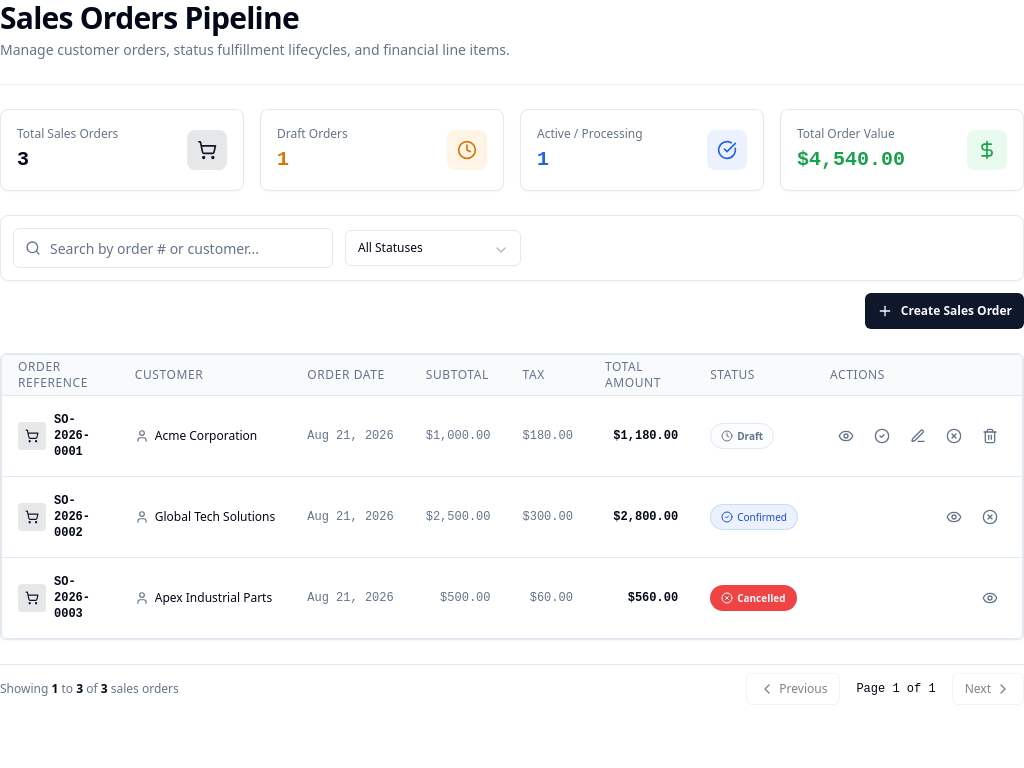
Test: Sales Orders Management Suite › opens Sales Order Detail modal when view details action is clicked
The width and height of the screenshot is (1024, 768).
Click the button titled "View Details" in the row of "SO-2026-0001" at (846,436), box [830,420,862,452]
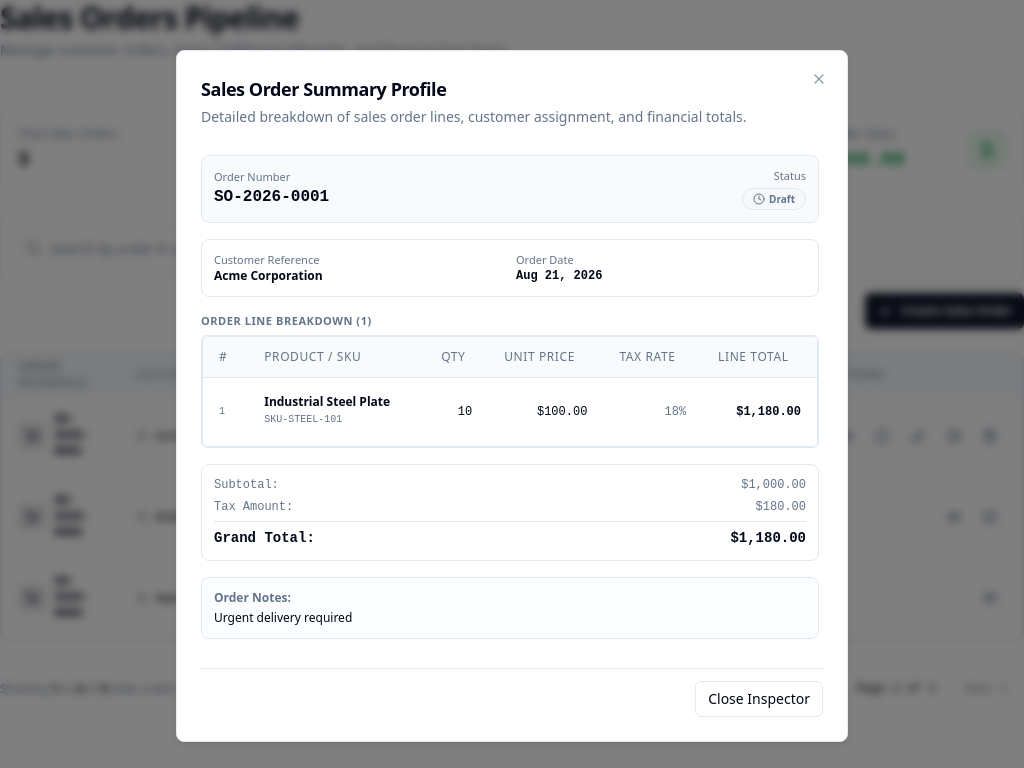
Now the heading "Sales Order Summary Profile" is shown, box [201,77,446,101]
